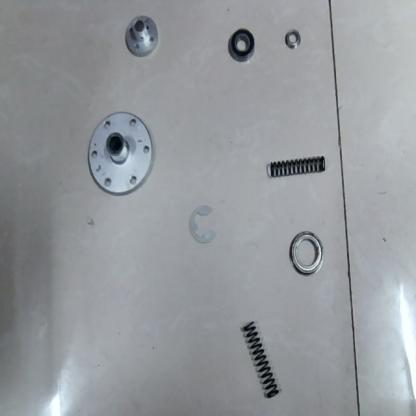FOD: (87, 110, 156, 199), (240, 316, 282, 402), (286, 226, 327, 281), (122, 12, 162, 60), (266, 151, 327, 181), (186, 202, 217, 248), (226, 28, 258, 65), (282, 27, 301, 53)
